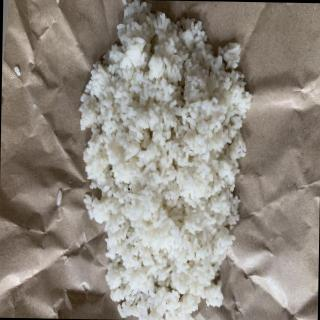Nasi: (77, 1, 253, 320)
